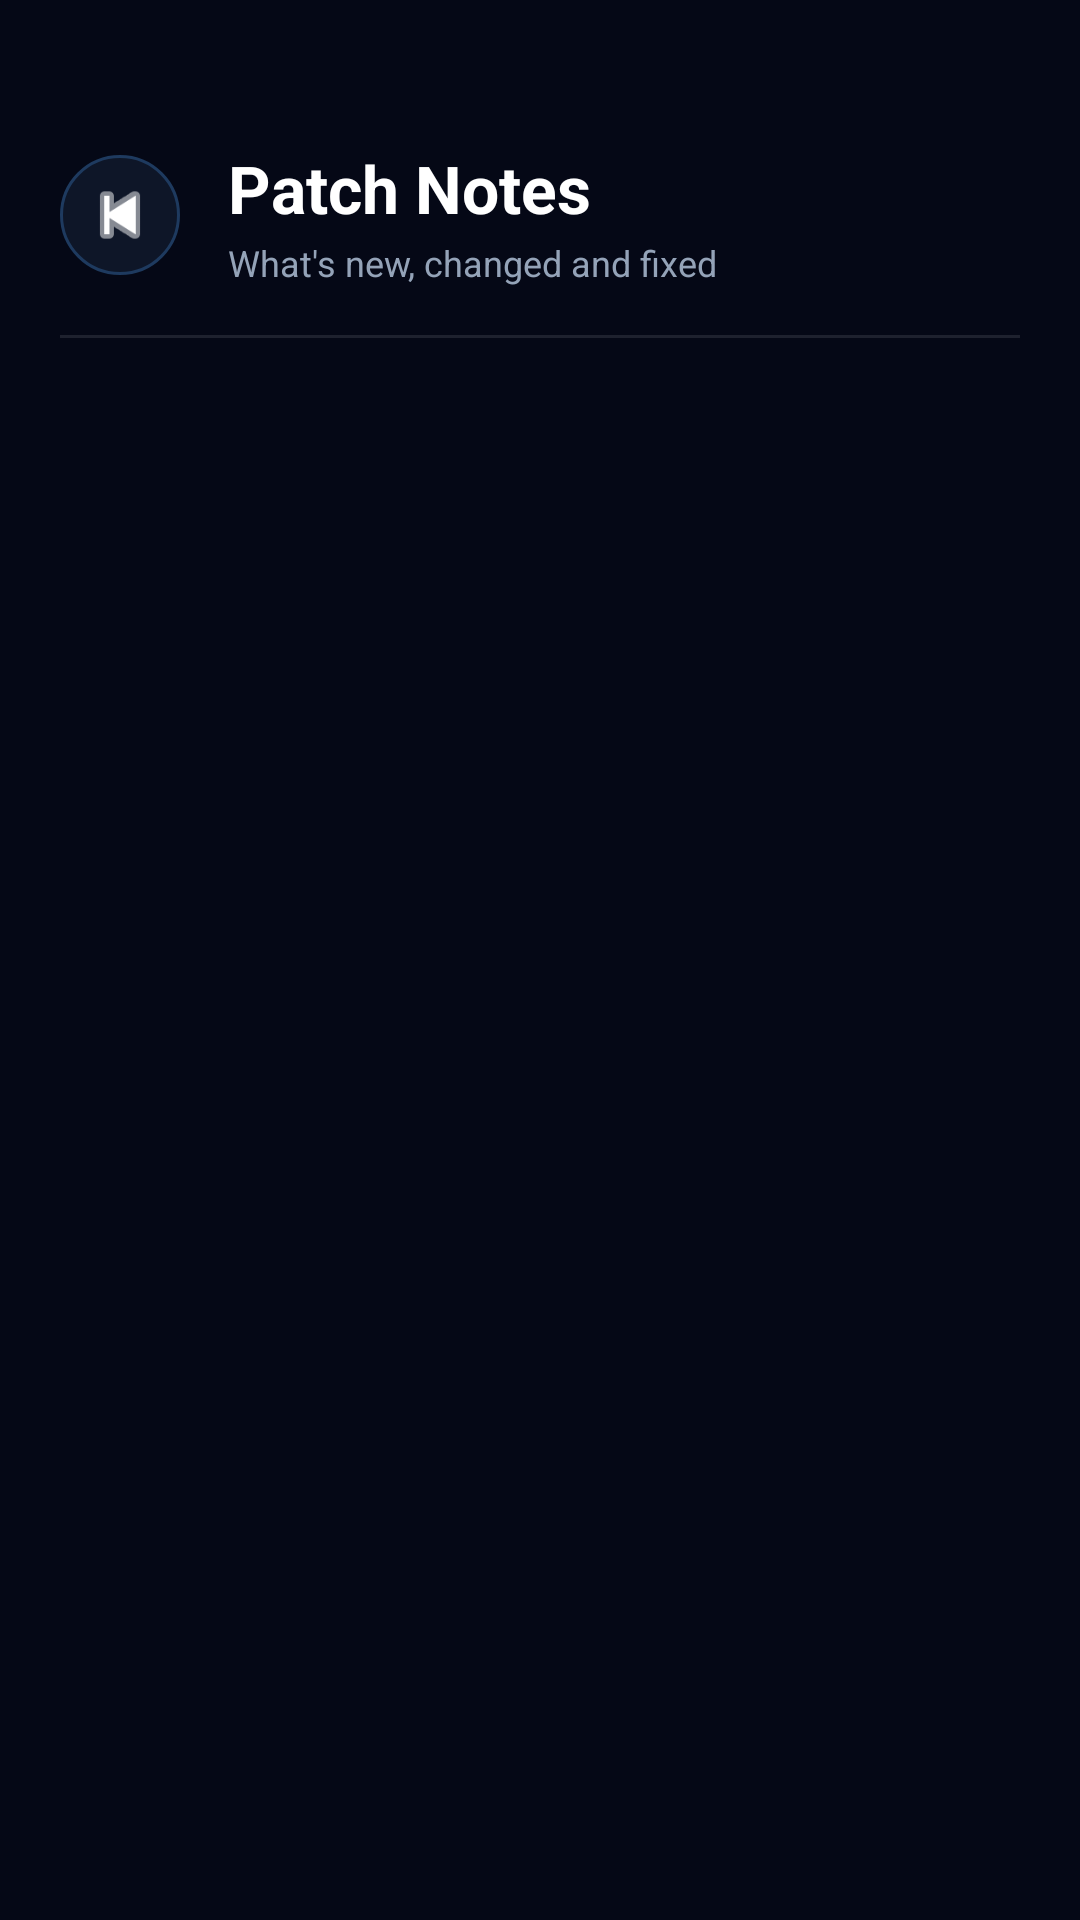

Screen size 1080 × 1920. Icon name, then its center in pixels as (x=x, y=y):
previous: (x=120, y=215)
